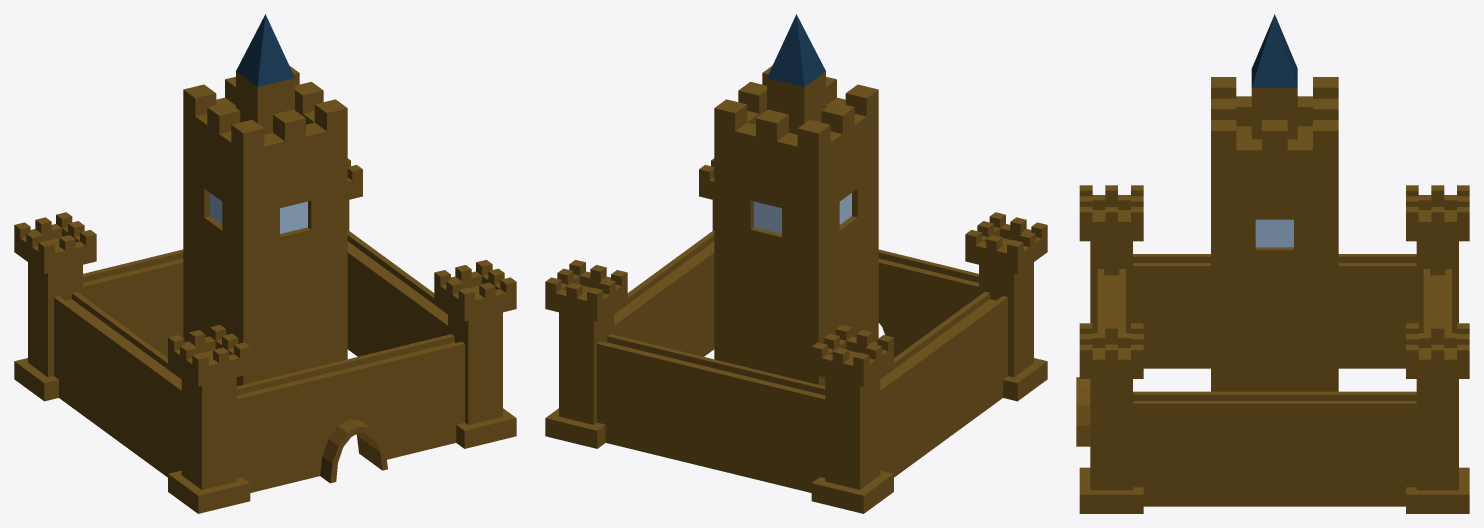
The model's file is LowpolyCastle.fbx.
3 renders of one model, left to right at view 1: azimuth 30°, elevation 25°; view 2: azimuth 150°, elevation 25°; view 3: azimuth 270°, elevation 25°, orthographic. The views are drawn at different scales.
Parts seen in each view (by area): view 1: Main Tower, Gate, Column.003, Column, Column.002, Wall.004, Wall.005, Wall.003, Wall.001, Wall, Column.001; view 2: Main Tower, Wall.002, Wall.003, Column.002, Column.001, Column.003, Wall.005, Wall.004, Gate, Wall, Wall.001, Column; view 3: Main Tower, Wall.001, Wall, Column, Column.001, Wall.004, Wall.005, Column.003, Column.002, Gate, Wall.003.
Boxes of the visible parts, left/top/right/bottom form: Main Tower: left=183, top=14, right=347, bottom=386; Gate: left=236, top=334, right=464, bottom=492; Column.003: left=168, top=325, right=250, bottom=513; Column: left=434, top=260, right=516, bottom=448; Column.002: left=14, top=212, right=96, bottom=401; Wall.004: left=54, top=291, right=143, bottom=442; Wall.005: left=120, top=340, right=181, bottom=477; Wall.003: left=83, top=250, right=183, bottom=357; Wall.001: left=347, top=230, right=409, bottom=356; Wall: left=387, top=275, right=447, bottom=349; Column.001: left=347, top=158, right=362, bottom=230; Main Tower: left=714, top=14, right=878, bottom=386; Wall.002: left=597, top=334, right=725, bottom=468; Wall.003: left=713, top=362, right=825, bottom=492; Column.002: left=811, top=325, right=893, bottom=513; Column.001: left=545, top=260, right=627, bottom=448; Column.003: left=965, top=212, right=1047, bottom=401; Wall.005: left=918, top=291, right=1007, bottom=442; Wall.004: left=880, top=340, right=941, bottom=477; Gate: left=878, top=249, right=978, bottom=357; Wall: left=652, top=230, right=714, bottom=356; Wall.001: left=614, top=275, right=674, bottom=349; Column: left=699, top=158, right=714, bottom=230; Main Tower: left=1211, top=14, right=1338, bottom=391; Wall.001: left=1274, top=391, right=1416, bottom=506; Wall: left=1133, top=391, right=1274, bottom=506; Column: left=1079, top=323, right=1143, bottom=513; Column.001: left=1406, top=323, right=1469, bottom=513; Wall.004: left=1338, top=254, right=1416, bottom=368; Wall.005: left=1133, top=254, right=1210, bottom=368; Column.003: left=1079, top=185, right=1143, bottom=332; Column.002: left=1406, top=185, right=1469, bottom=332; Gate: left=1076, top=269, right=1125, bottom=446; Wall.003: left=1423, top=269, right=1451, bottom=332.
Bounding box in the file's own units: 5500 × 6500 × 5550.
Materials: 1 (1 with a texture image).
